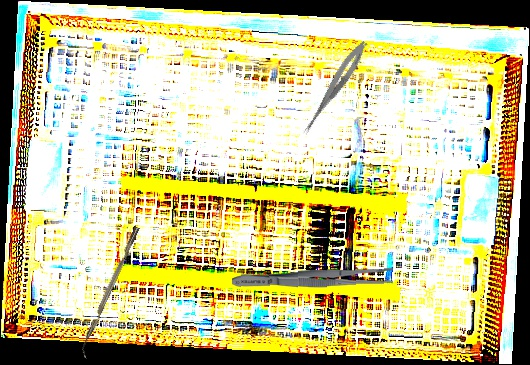Chopper: (75, 226, 147, 359)
Dressing Forceps: (231, 265, 394, 292)
Micro Scissor: (299, 37, 371, 140)
